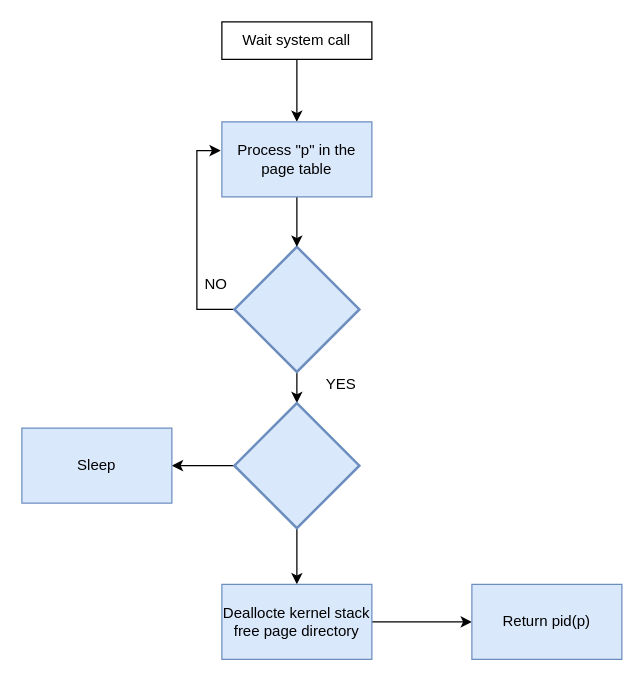
Image size: 644x681. Some labels were removed from this diagram. Here are the shapes that lost their labels. From the top down, the centre of each, then its label:
the point at 296,308: If P is a child
the point at 296,465: If P is a zombie
